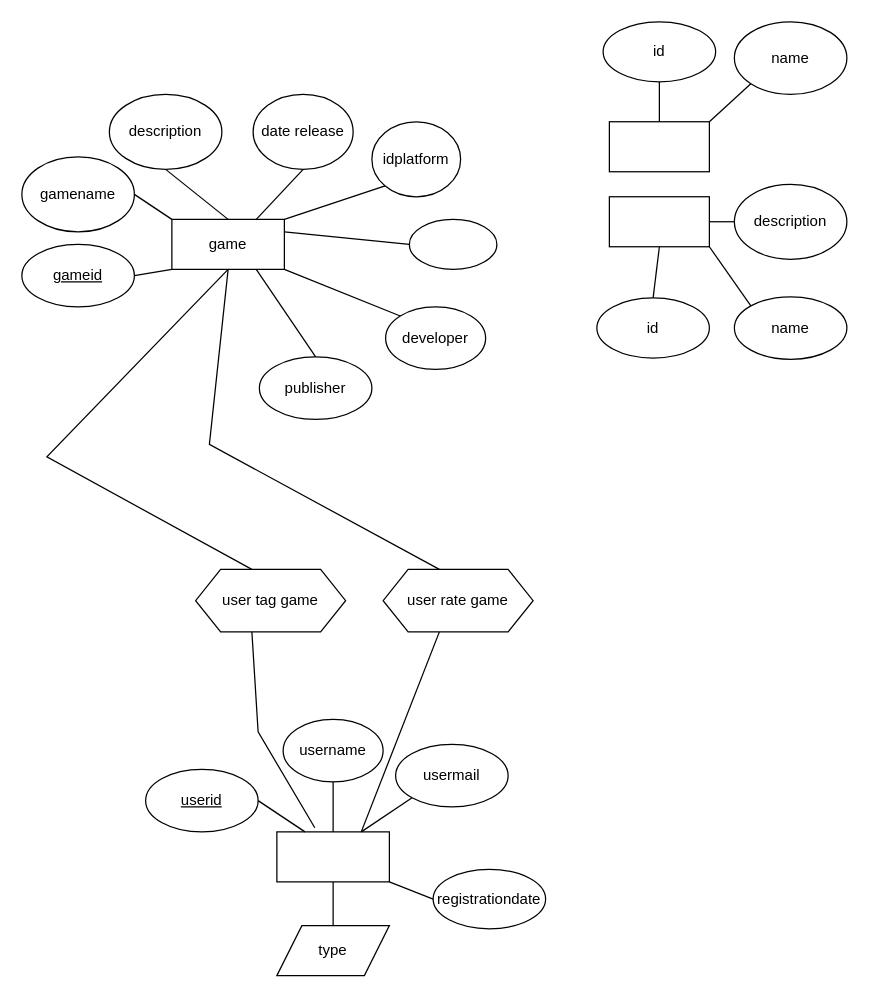
Some shapes in this 869 by 999 pixel diagram are drawn without their labels. The centre of each missing label's shape, as x and y in pixels:
"genre" goes at pixel 658 221.
"idgenre" goes at pixel 452 243.
"platform" goes at pixel 658 146.
"user" goes at pixel 332 856.
